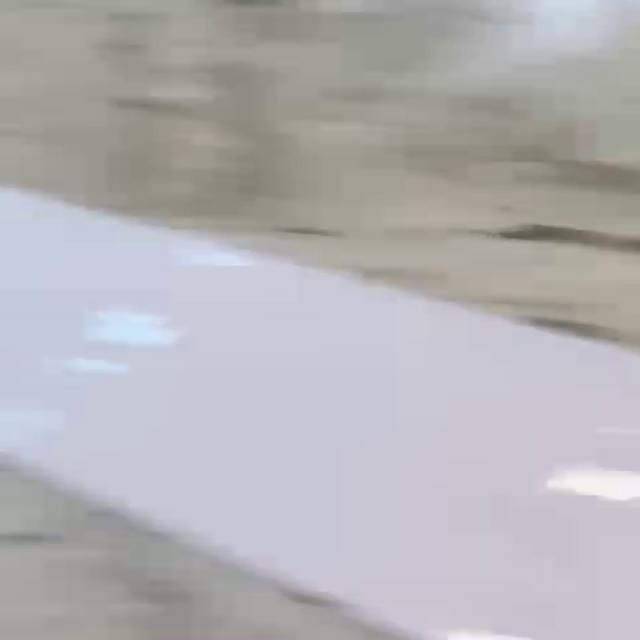road: (0, 186, 640, 640)
